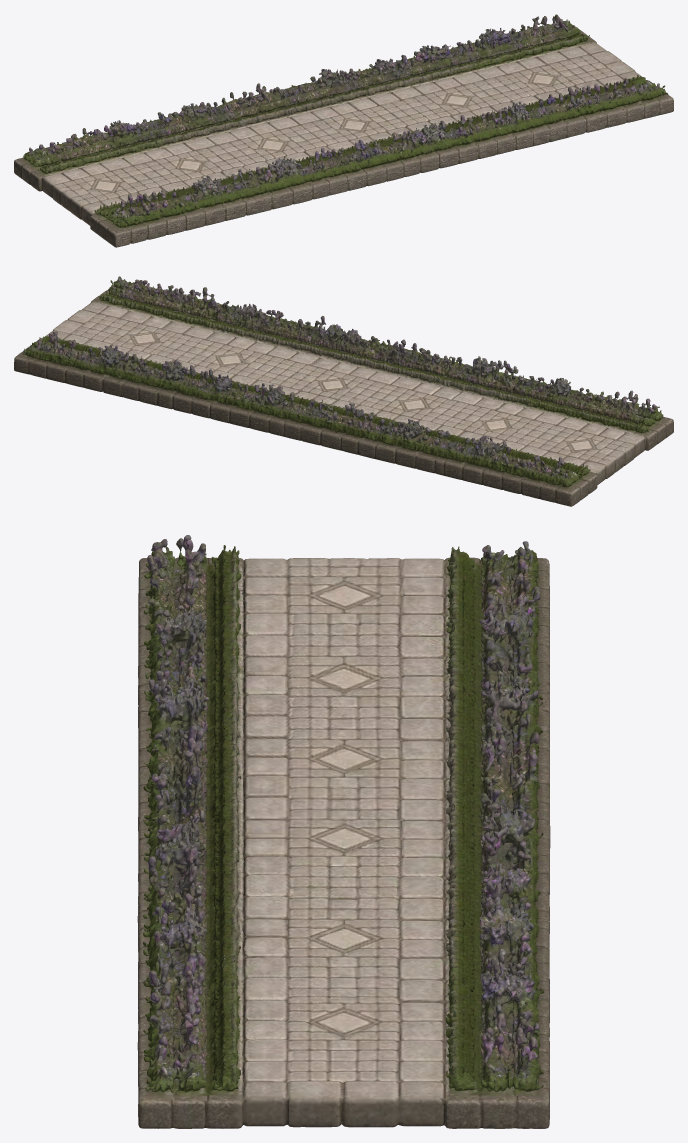
File: Meshy_AI_road_garden_pathway_0823031900_image-to-3d-texture.glb
3 views of the same model, one above another, from view 1: azimuth 30°, elevation 25°; view 2: azimuth 150°, elevation 25°; view 3: azimuth 270°, elevation 25° (orthographic). The views are drawn at different scales.
Parts seen in each view (by area): view 1: mesh_node; view 2: mesh_node; view 3: mesh_node.
Part boxes in pixels (x1,y1,x2,y2): mesh_node: (14, 14, 673, 247); mesh_node: (14, 276, 673, 506); mesh_node: (137, 535, 550, 1128).
Bounding box in the file's own units: 1.9 × 0.1301 × 0.608.
1 material, 1 textured.
